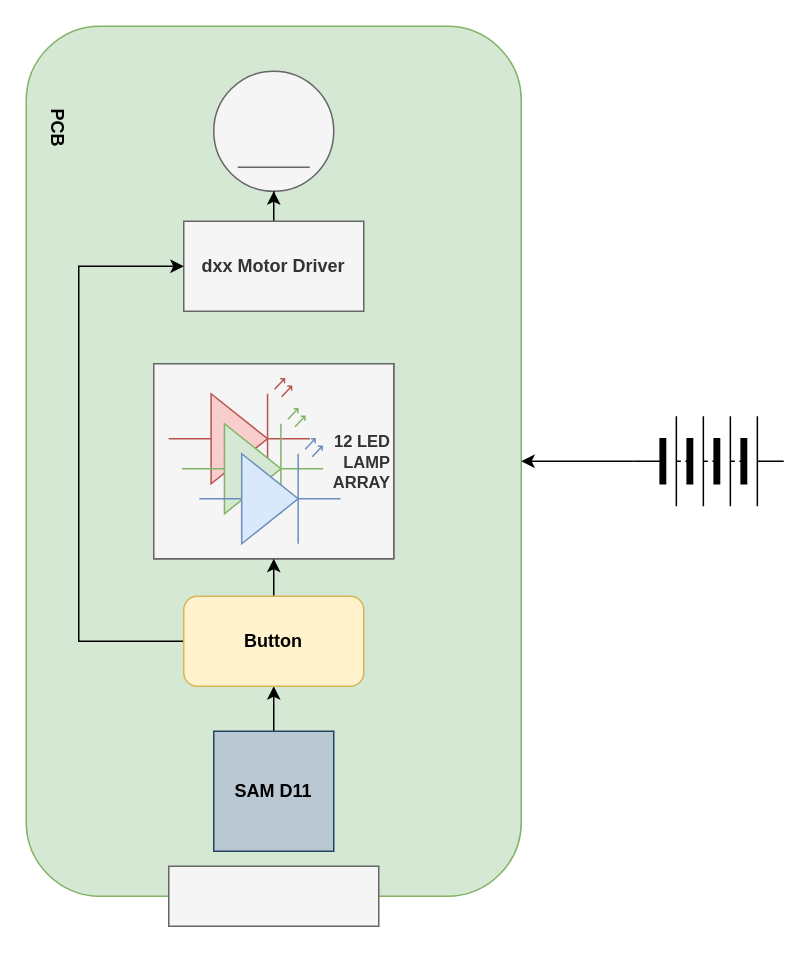
The diagram is 810 pixels wide and 953 high, and some of its shapes have lost their labels. The centre of each missing label's shape, as x and y in pixels:
DC VIBRATION MOTOR: point (273, 130)
Lithium polymer: point (708, 460)
USB C PORT: point (273, 895)
